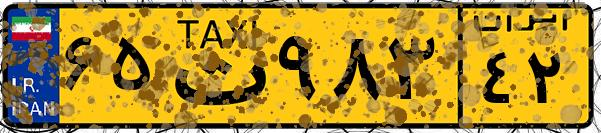2: (525, 38, 570, 115)
3: (385, 28, 445, 110)
4: (475, 38, 525, 113)
5: (110, 28, 158, 98)
6: (57, 26, 110, 100)
8: (330, 28, 385, 110)
9: (270, 28, 330, 110)
ت: (158, 12, 270, 120)
